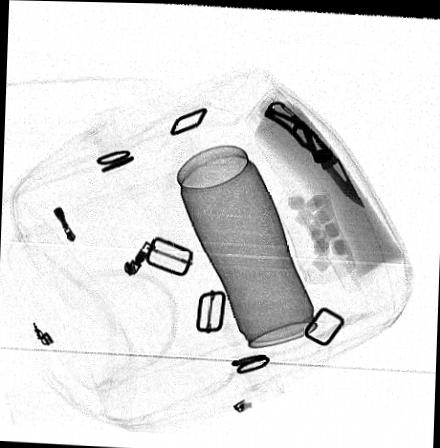Knife: (262, 97, 367, 208)
